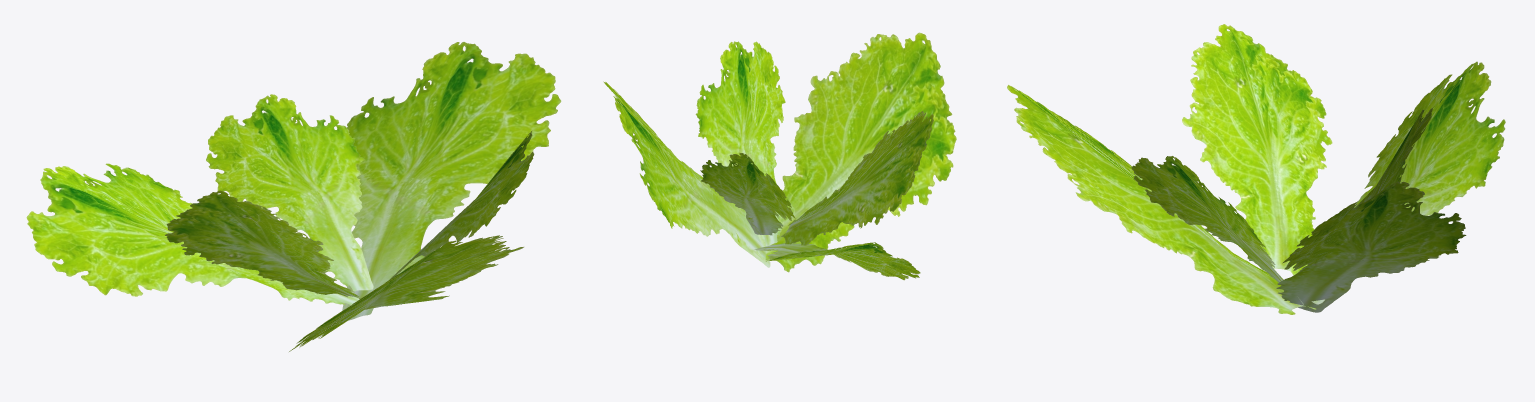
The model's file is flower.fbx.
3 views of the same model, side by side, from view 1: azimuth 30°, elevation 25°; view 2: azimuth 150°, elevation 25°; view 3: azimuth 270°, elevation 25° (orthographic). The views are drawn at different scales.
Parts seen in each view (by area): view 1: Cube.087_70; view 2: Cube.087_70; view 3: Cube.087_70.
Boxes of the visible parts, bbox=[...] form: Cube.087_70: bbox=[26, 42, 561, 351]; Cube.087_70: bbox=[603, 32, 956, 280]; Cube.087_70: bbox=[1007, 24, 1505, 314].
Size of the model in its own units: 23.84 by 15.44 by 22.27.
